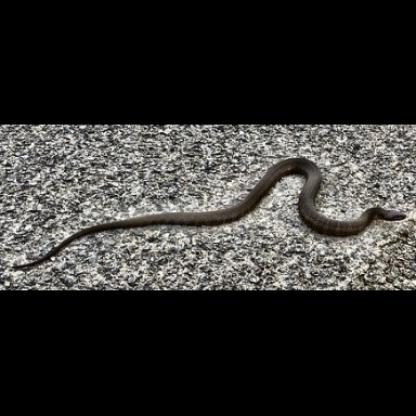Snake: (8, 152, 412, 260)
